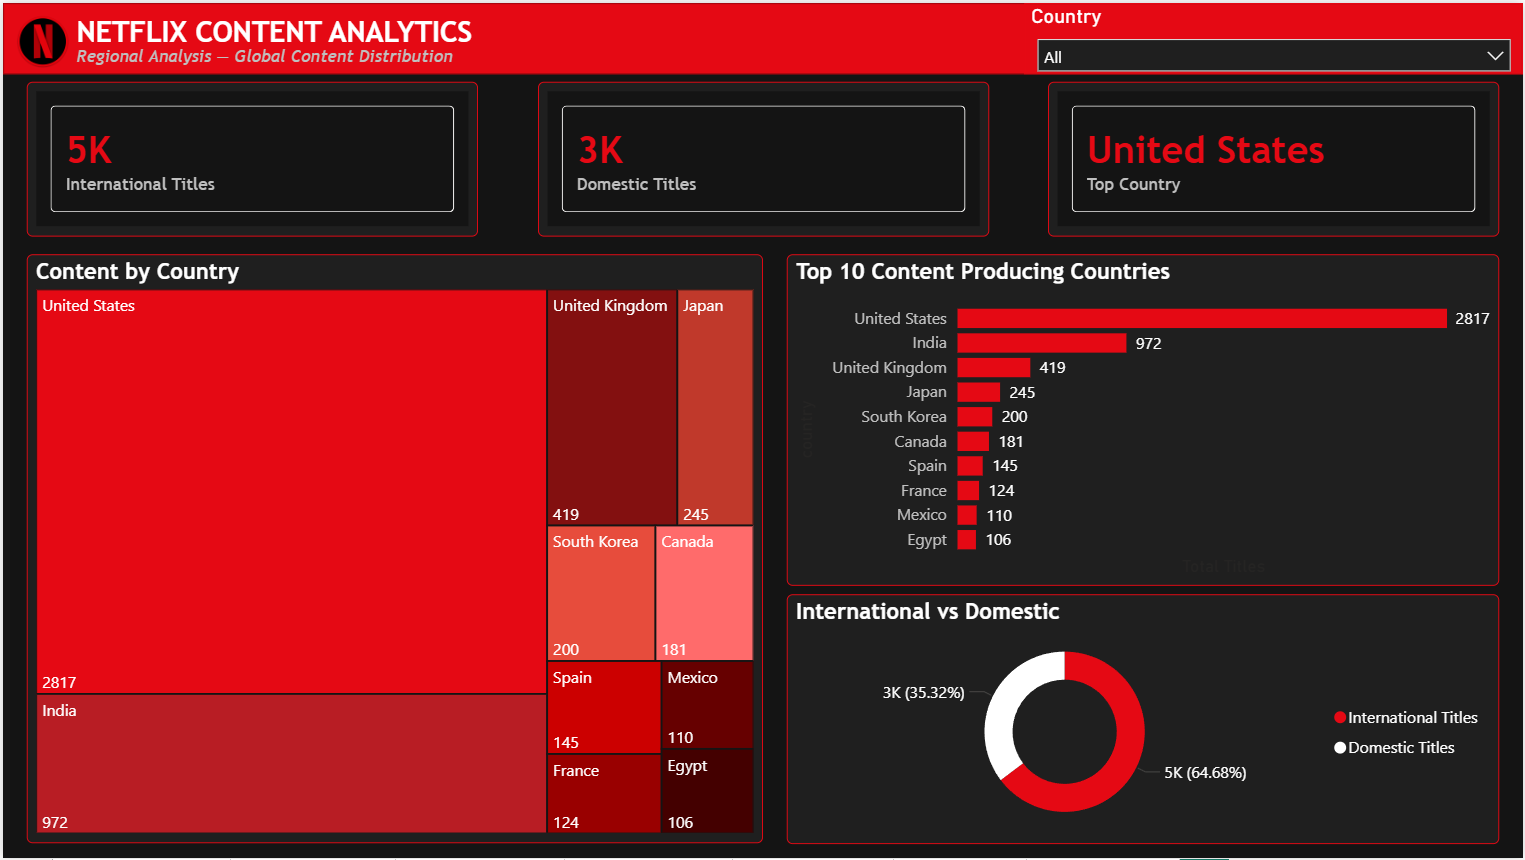

The dashboard page shown, as its layout file describes it:
{"tool":"powerbi","page":{"name":"Regional Analysis","canvas":[1280,720],"ordinal":2},"visuals":[{"type":"shape","box":[0,0,1280,60],"z":0},{"type":"textbox","box":[57,5,346,38],"z":1000},{"type":"image","box":[9,7,48,49],"z":2000},{"type":"textbox","box":[57,31,327,29],"z":3000},{"type":"cardVisual","fields":{"Data":["_Measures.International Titles"]},"box":[20,66.8,380,130],"z":4000},{"type":"cardVisual","fields":{"Data":["_Measures.Domestic Titles"]},"box":[450,66.8,380,130],"z":5000},{"type":"cardVisual","fields":{"Data":["_Measures.Top Country"]},"box":[880,66.7,380,130],"z":6000},{"type":"treemap","title":"Content by Country","fields":{"Group":["netflix_titles.country"],"Values":["_Measures.Total Titles"]},"box":[20,211.6,620,495.8],"z":7000},{"type":"clusteredBarChart","title":"Top 10 Content Producing Countries","fields":{"Category":["netflix_titles.country"],"Y":["_Measures.Total Titles"]},"box":[660,211.1,600,278.9],"z":8000},{"type":"donutChart","title":"International vs Domestic","fields":{"Y":["_Measures.International Titles","_Measures.Domestic Titles"]},"box":[660,497.8,600,210],"z":9000},{"type":"slicer","title":"Country","fields":{"Values":["netflix_titles.country"]},"box":[860,0,420,60],"z":10000}]}

Visuals, with their boxes in screenshot pixels (x1, y1, x2, y2), scaled from the page's 1280x720 canvas onto the 1525x860 screenshot:
shape: box=[0, 0, 1524, 72]
textbox: box=[68, 6, 480, 51]
image: box=[11, 8, 68, 67]
textbox: box=[68, 37, 458, 72]
cardVisual - _Measures.International Titles: box=[24, 80, 477, 235]
cardVisual - _Measures.Domestic Titles: box=[536, 80, 989, 235]
cardVisual - _Measures.Top Country: box=[1048, 80, 1501, 235]
"Content by Country" treemap: box=[24, 253, 762, 845]
"Top 10 Content Producing Countries" clusteredBarChart: box=[786, 252, 1501, 585]
"International vs Domestic" donutChart: box=[786, 595, 1501, 845]
"Country" slicer: box=[1025, 0, 1524, 72]
